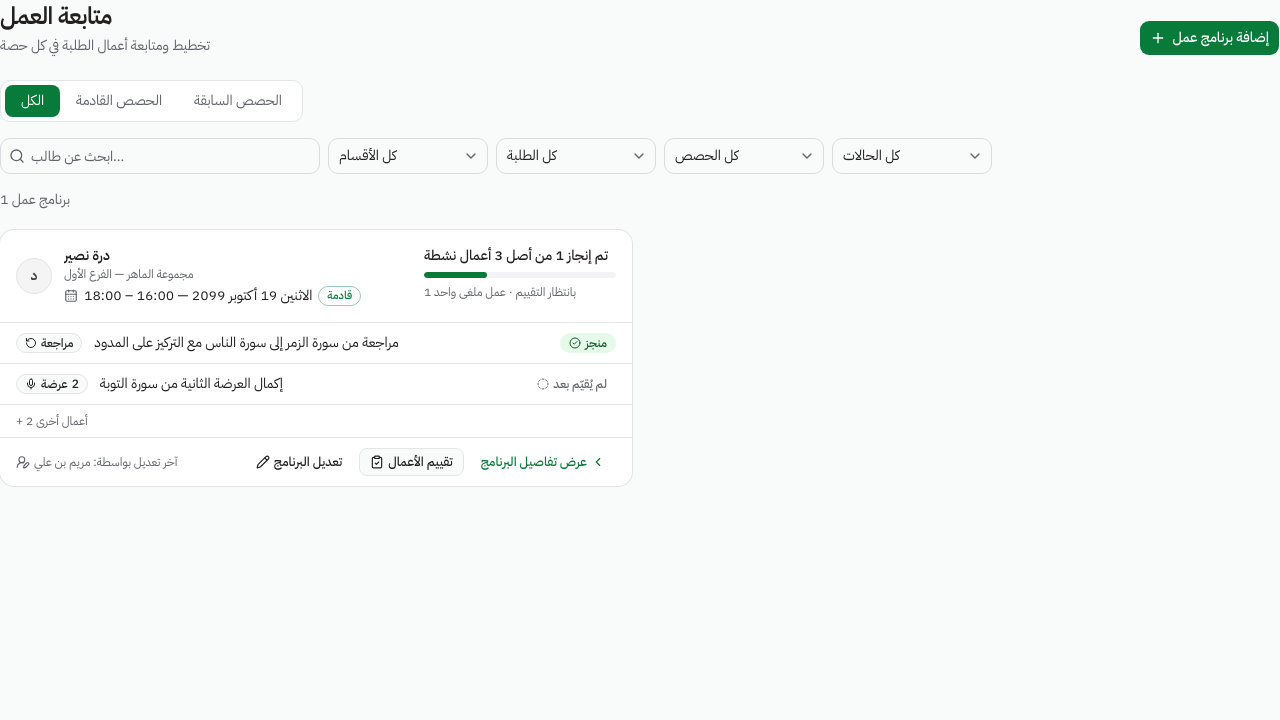
it: «متابعة العمل» — list (API) › a stale evaluation shows the API's Arabic conflict message (nothing is silently overwritten)
Click the button "تقييم الأعمال".
click(412, 462)  # box [359, 448, 464, 476]
(page scrolled)
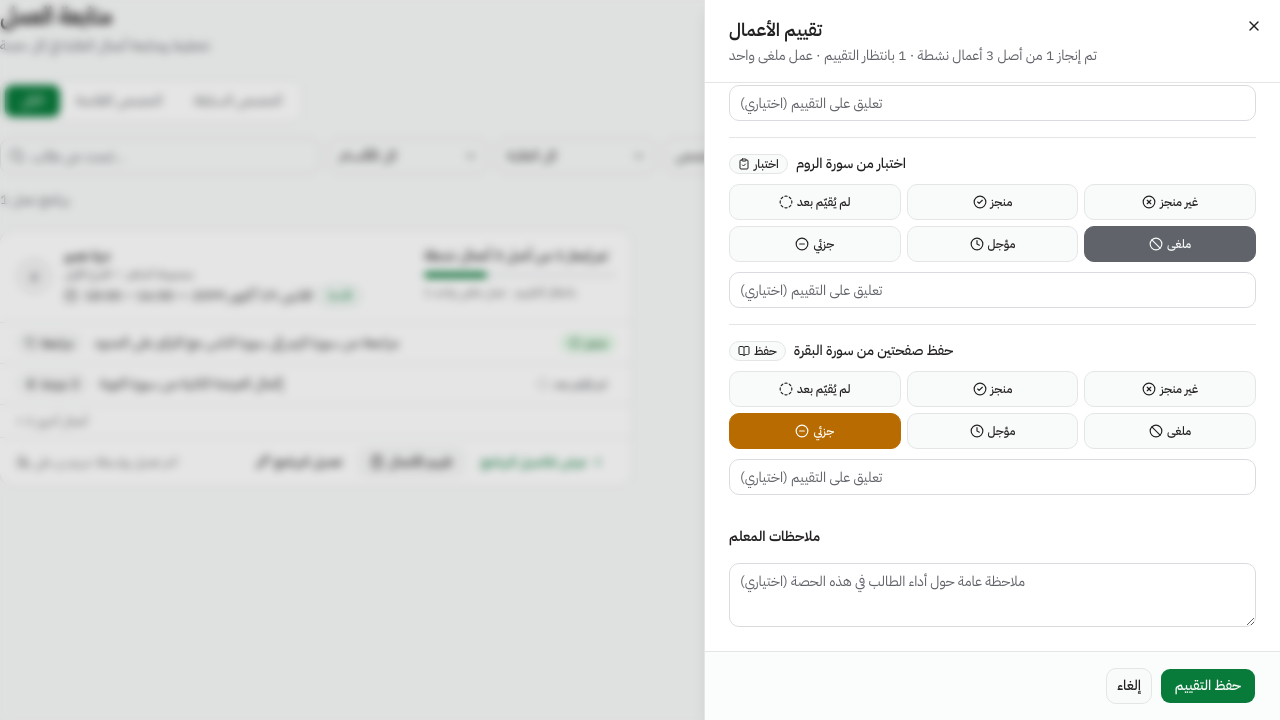
Click the radio button labelled "منجز" below "حفظ صفحتين من سورة البقرة".
click(993, 389)  # box [907, 371, 1078, 407]
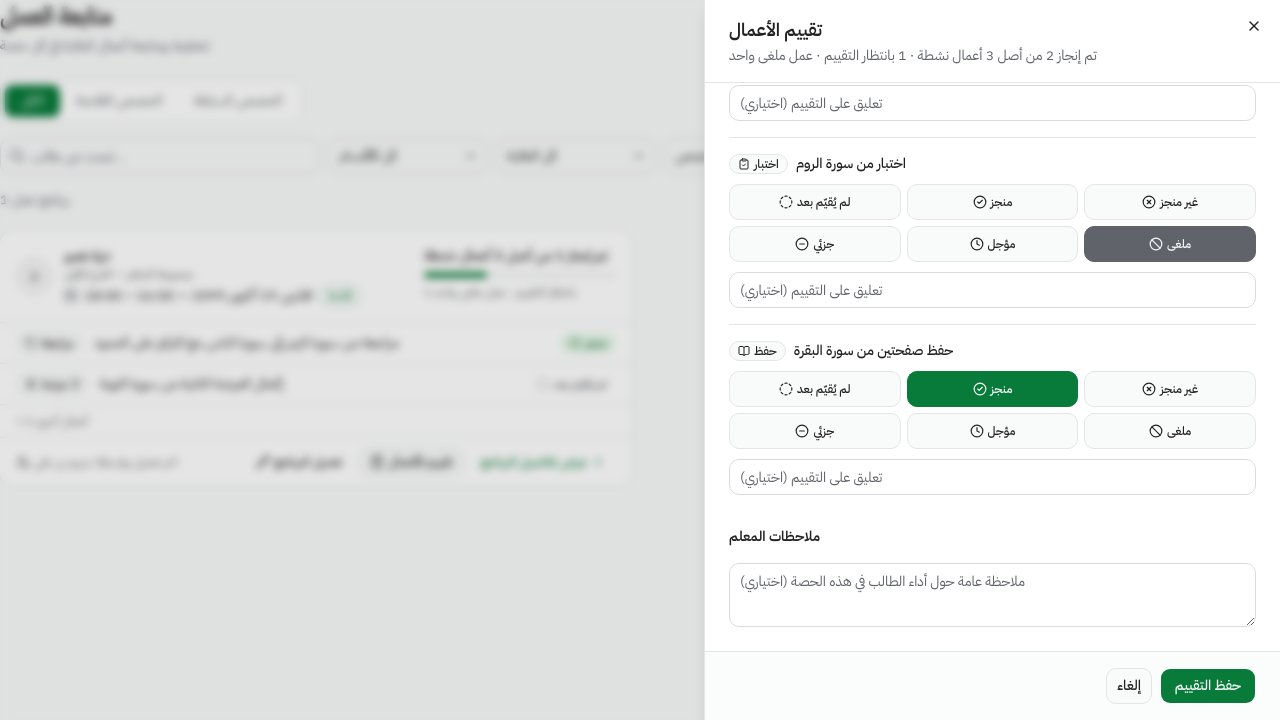
Click the button "حفظ التقييم".
click(1208, 686)  # box [1160, 668, 1256, 704]
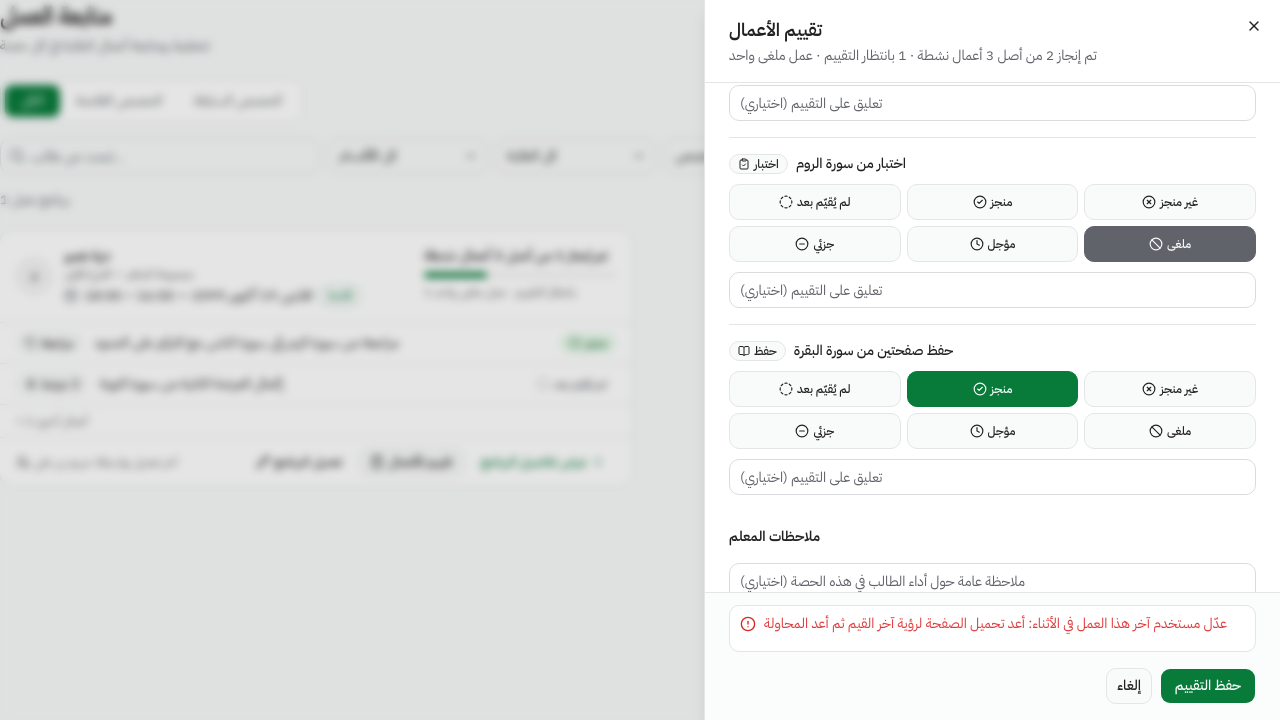
Expected: the text "عدّل مستخدم آخر هذا العمل في الأثناء: أعد تحميل الصفحة لرؤية آخر القيم ثم أعد المحاولة" is shown, [764, 613, 1227, 634]
